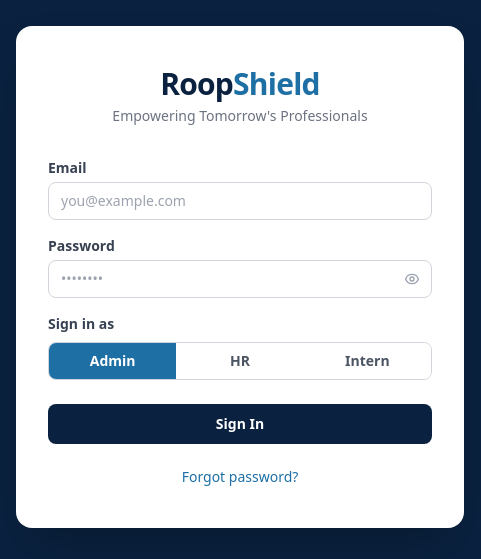
LoginPage — Requirement 2.2: Client-side validation › shows an error when password is empty on submit
Type "user@example.com" into the field labelled "Email" at (240,201), box [48, 182, 432, 220]
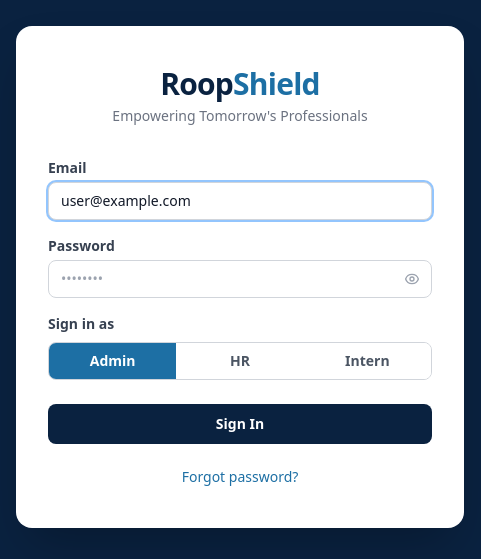
Click the button "Sign In" at (240,424), box [48, 404, 432, 444]
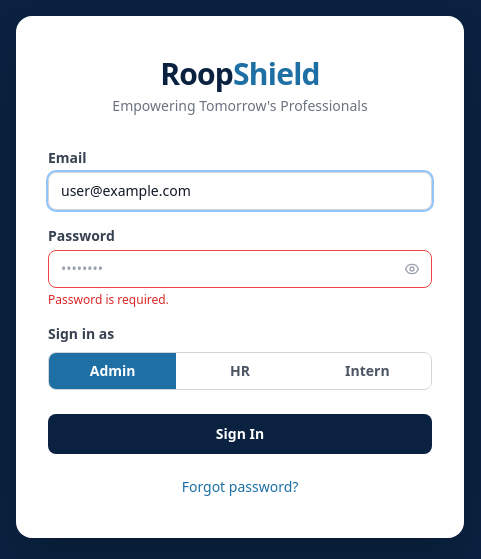
Now the text "Password is required." is shown, box [48, 291, 169, 308]
